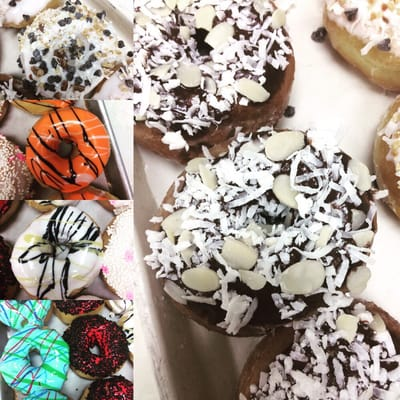salad: (132, 0, 296, 160), (9, 200, 132, 300), (323, 0, 400, 94), (63, 315, 130, 380), (373, 93, 400, 223), (54, 298, 105, 326), (78, 376, 134, 400)
